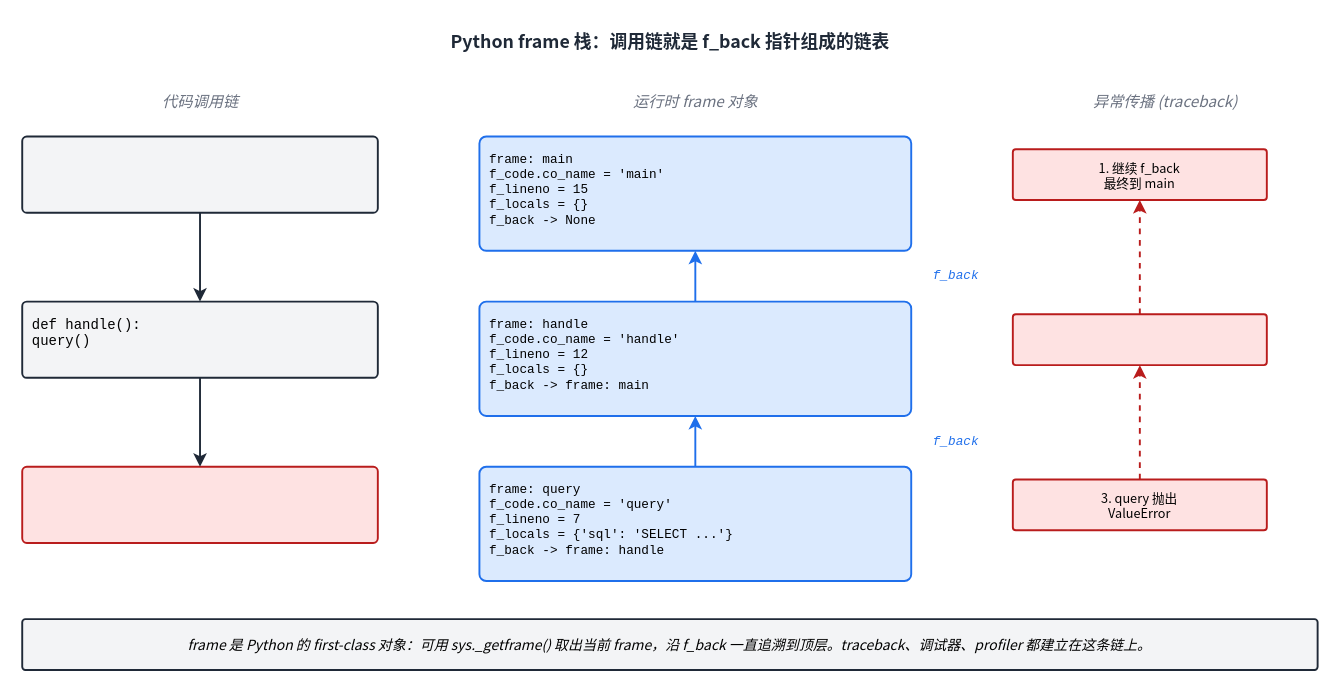
The diagram is 1341 pixels wide and 692 high, and some of its shapes have lost their labels. The shapes that lost their labels are listed below. From the top down, each one's box as (x1, y1, x2, y2) in pixels, then its label:
(21, 135, 378, 213): def main(): handle()
(1011, 313, 1267, 366): 2. 沿 f_back 上溯 到 handle
(21, 465, 378, 543): def query(): raise ValueError(...)
